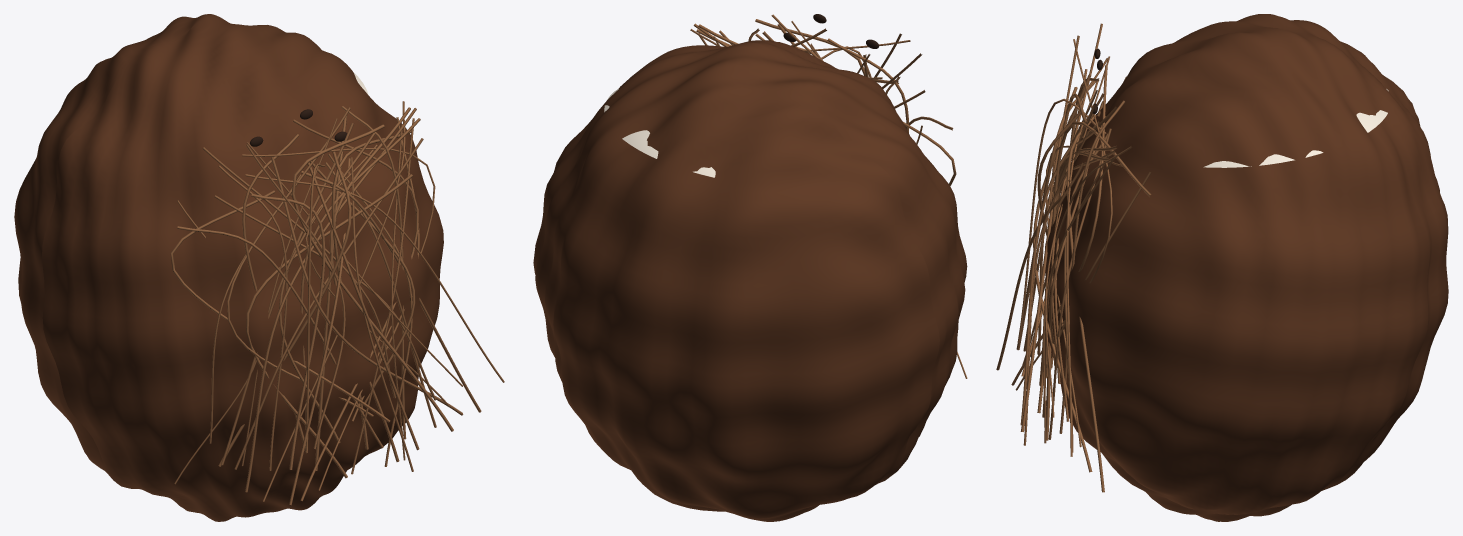
Rendered from coconut.glb.
The picture shows the model from 3 angles, left to right: view 1: azimuth 30°, elevation 25°; view 2: azimuth 150°, elevation 25°; view 3: azimuth 270°, elevation 25°; orthographic projection.
Bounding box in the file's own units: 2.03 × 2.4 × 2.1.
